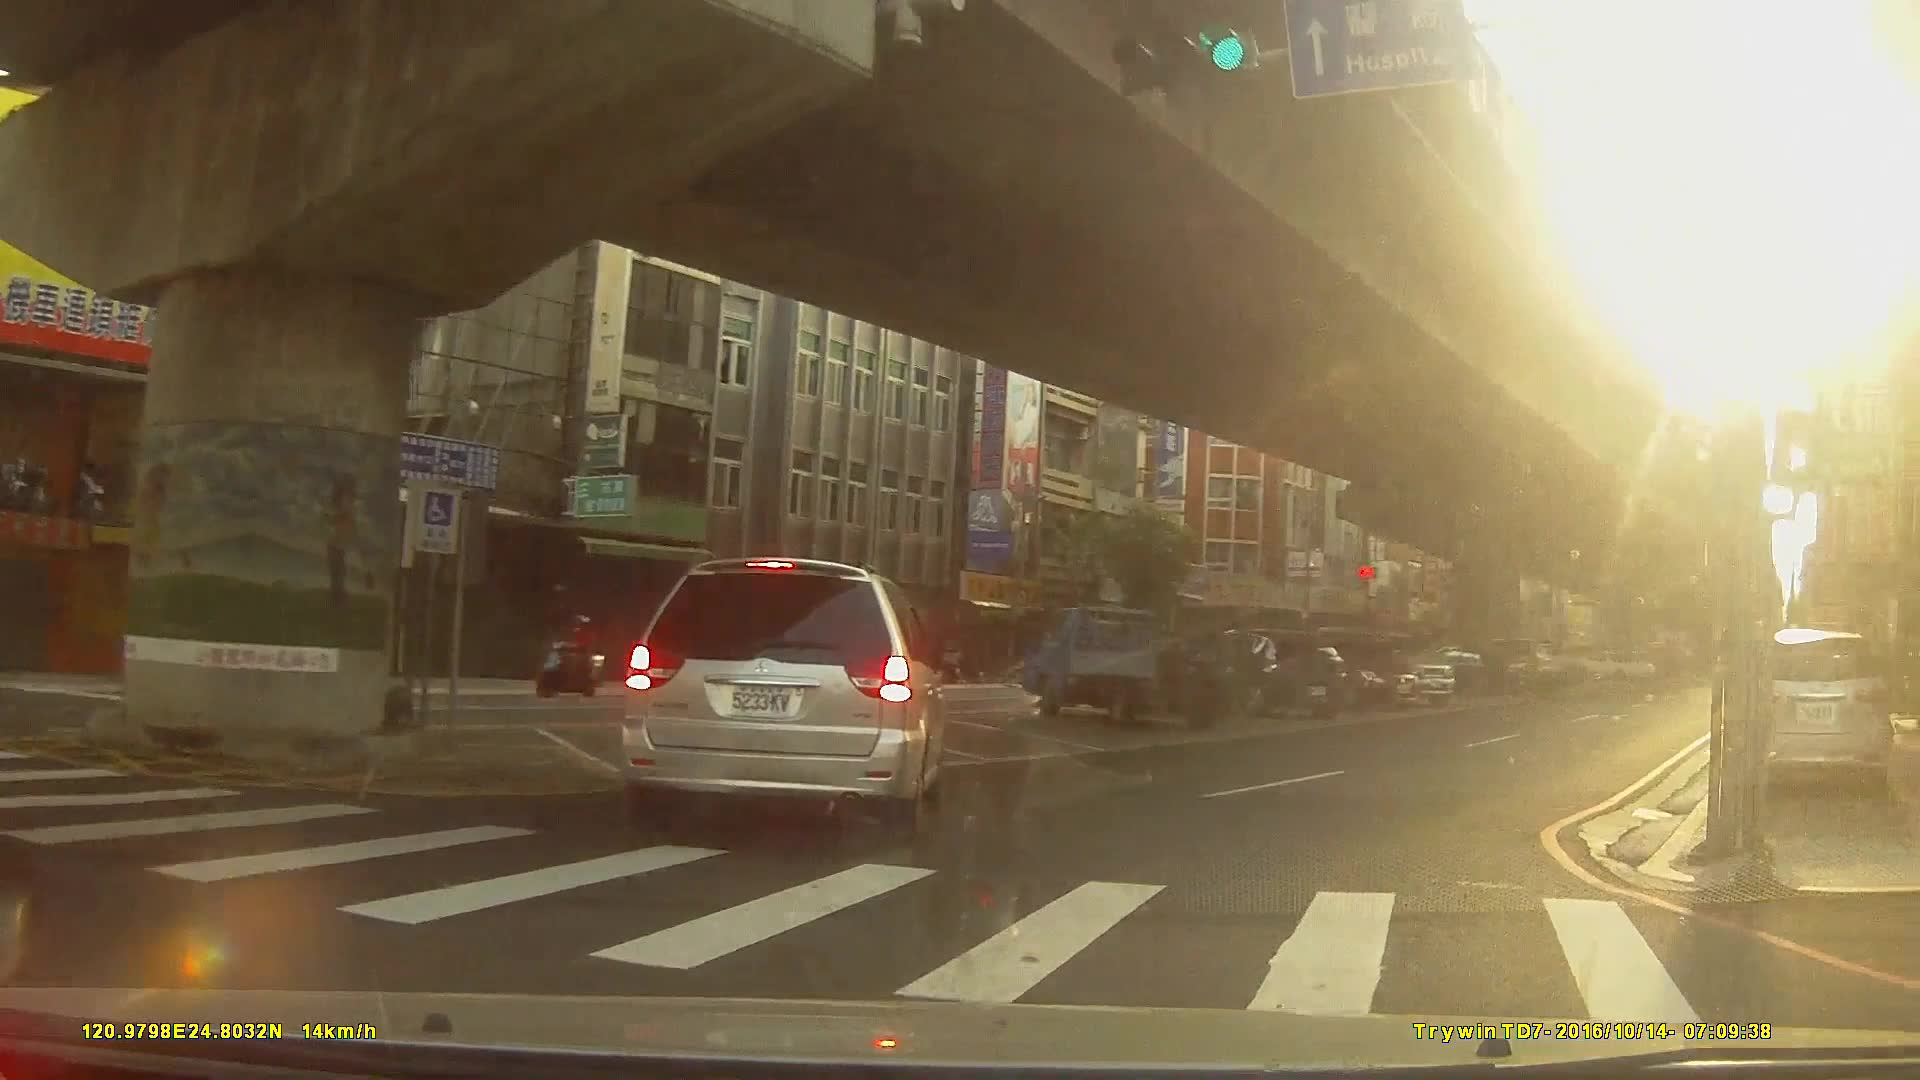rider: (540, 615, 609, 701)
vehicle: (620, 556, 946, 849), (1736, 628, 1890, 804), (1020, 601, 1242, 724), (1185, 625, 1345, 717), (1271, 633, 1421, 710), (1411, 644, 1511, 696)
